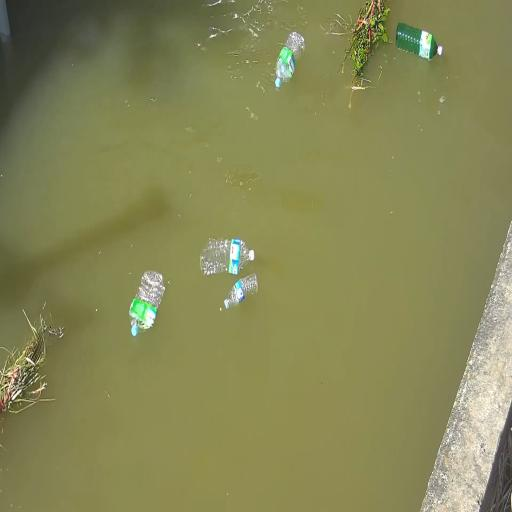plastic: (128, 267, 168, 343), (399, 11, 446, 73), (263, 32, 305, 93), (196, 235, 251, 277), (215, 272, 260, 314)
twig: (0, 320, 51, 421), (338, 0, 391, 81)
